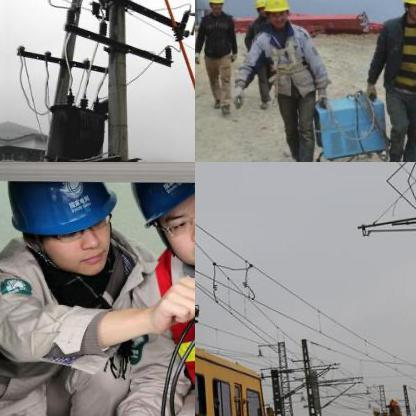Helmet: (3, 170, 129, 280), (138, 173, 194, 271), (259, 0, 290, 25), (397, 0, 415, 24), (250, 0, 267, 15), (205, 0, 225, 11)
